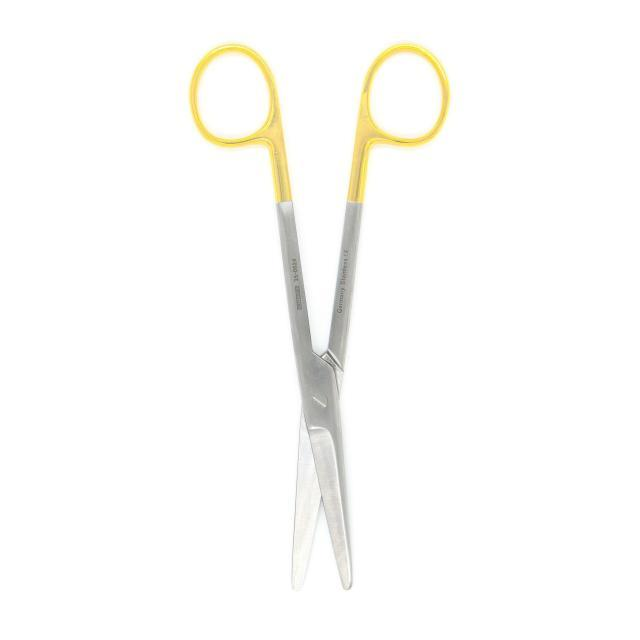Mayo_metz: (185, 38, 452, 598)
